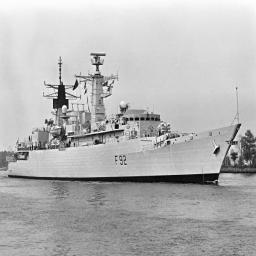Fragata: (9, 50, 246, 190)
